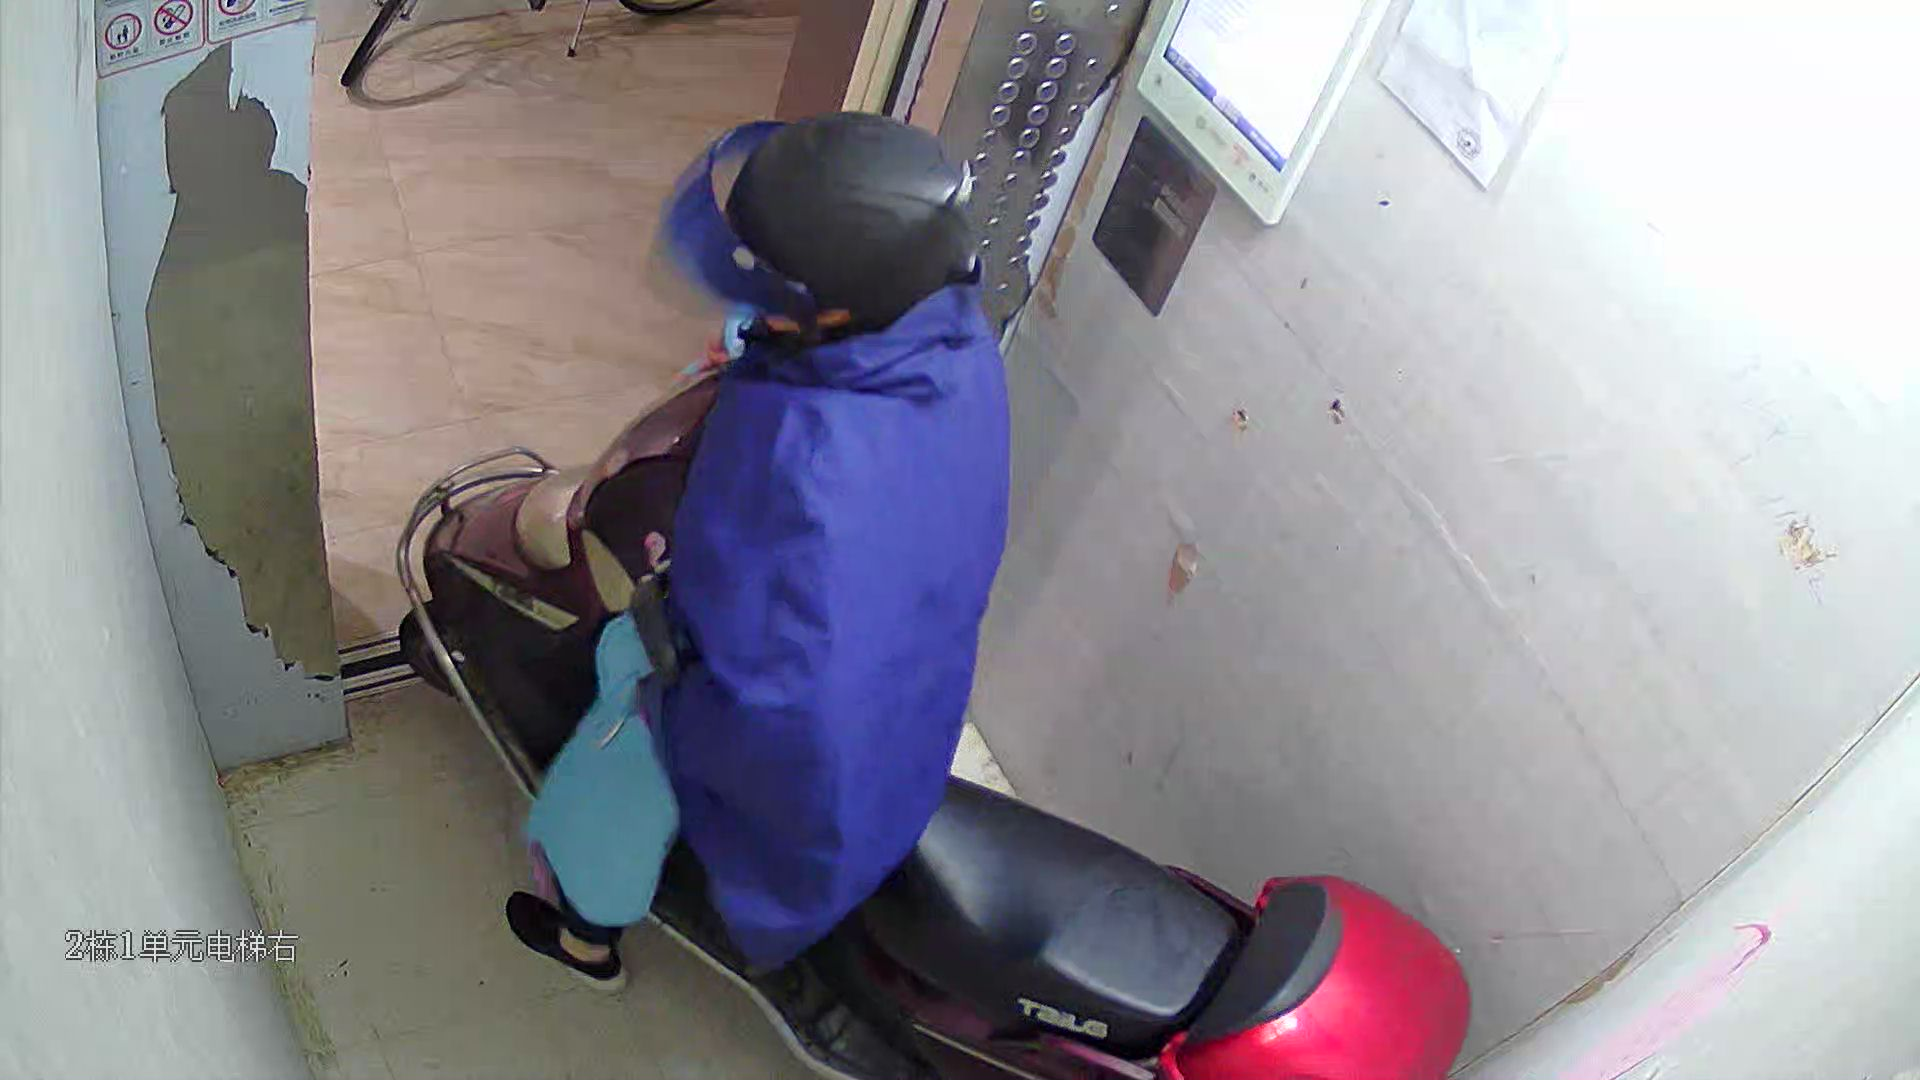Electric-bicycle: (407, 363, 1462, 1076)
